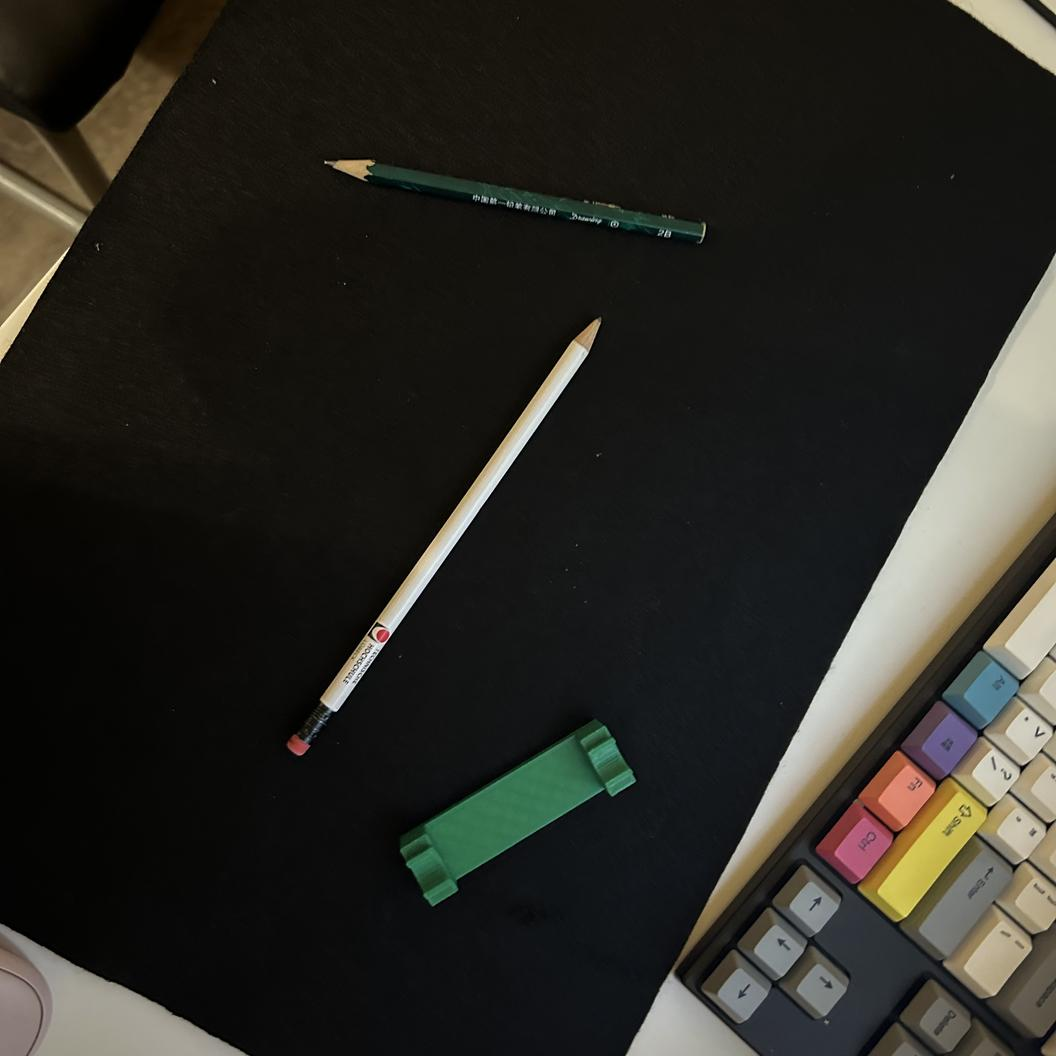holder: (394, 718, 638, 907)
pencil: (285, 314, 604, 757), (321, 154, 708, 242)
